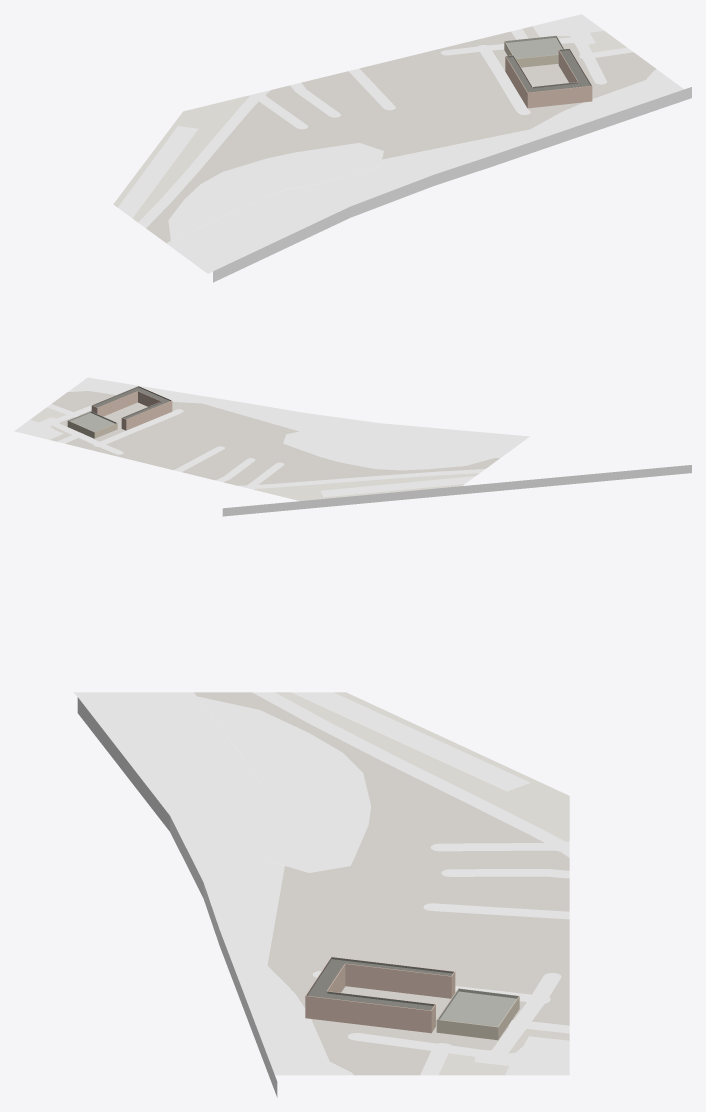
The picture shows the model from 3 angles, top to bottom: view 1: azimuth 30°, elevation 25°; view 2: azimuth 150°, elevation 25°; view 3: azimuth 270°, elevation 25°; orthographic projection. The views are drawn at different scales.
Parts seen in each view (by area): view 1: ground, sand, grass, asphalt, coast, walls, roofs, concrete; view 2: ground, sand, grass, coast, asphalt, walls, roofs, concrete; view 3: ground, sand, grass, asphalt, walls, roofs, concrete, coast.
Boxes of the visible parts, x1=… form: ground: x1=113, y1=26, x2=656, y2=243; sand: x1=166, y1=69, x2=683, y2=273; grass: x1=168, y1=14, x2=603, y2=240; asphalt: x1=138, y1=29, x2=633, y2=227; coast: x1=213, y1=87, x2=691, y2=282; walls: x1=504, y1=41, x2=592, y2=108; roofs: x1=504, y1=35, x2=591, y2=92; concrete: x1=118, y1=126, x2=198, y2=217; ground: x1=30, y1=391, x2=499, y2=500; sand: x1=68, y1=377, x2=529, y2=458; grass: x1=14, y1=417, x2=494, y2=489; coast: x1=222, y1=465, x2=691, y2=516; asphalt: x1=47, y1=404, x2=484, y2=489; walls: x1=67, y1=391, x2=172, y2=438; roofs: x1=68, y1=386, x2=171, y2=432; concrete: x1=321, y1=476, x2=475, y2=496; ground: x1=194, y1=692, x2=569, y2=1075; sand: x1=73, y1=692, x2=353, y2=1075; grass: x1=197, y1=696, x2=569, y2=1075; asphalt: x1=252, y1=692, x2=569, y2=1075; walls: x1=305, y1=964, x2=519, y2=1040; roofs: x1=305, y1=956, x2=519, y2=1027; concrete: x1=292, y1=692, x2=529, y2=790; coast: x1=77, y1=697, x2=277, y2=1097.
Size of what is drawn, in the model's own units: 350 by 11.78 by 179.
